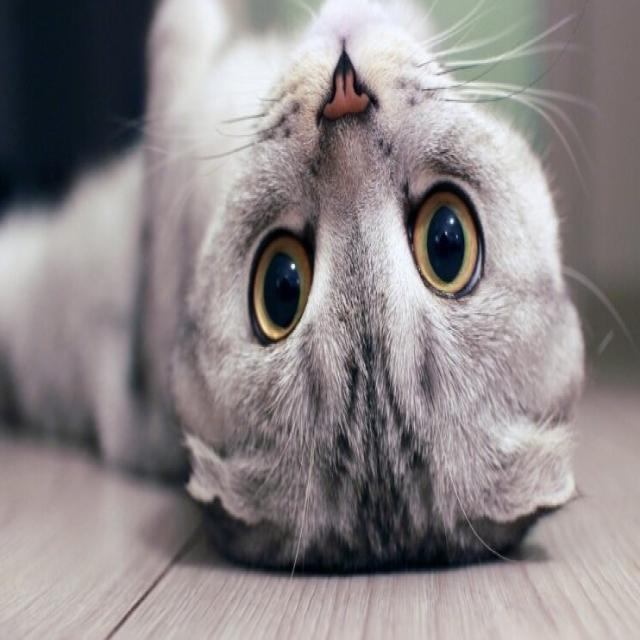Scottish Fold: (142, 0, 592, 583)
